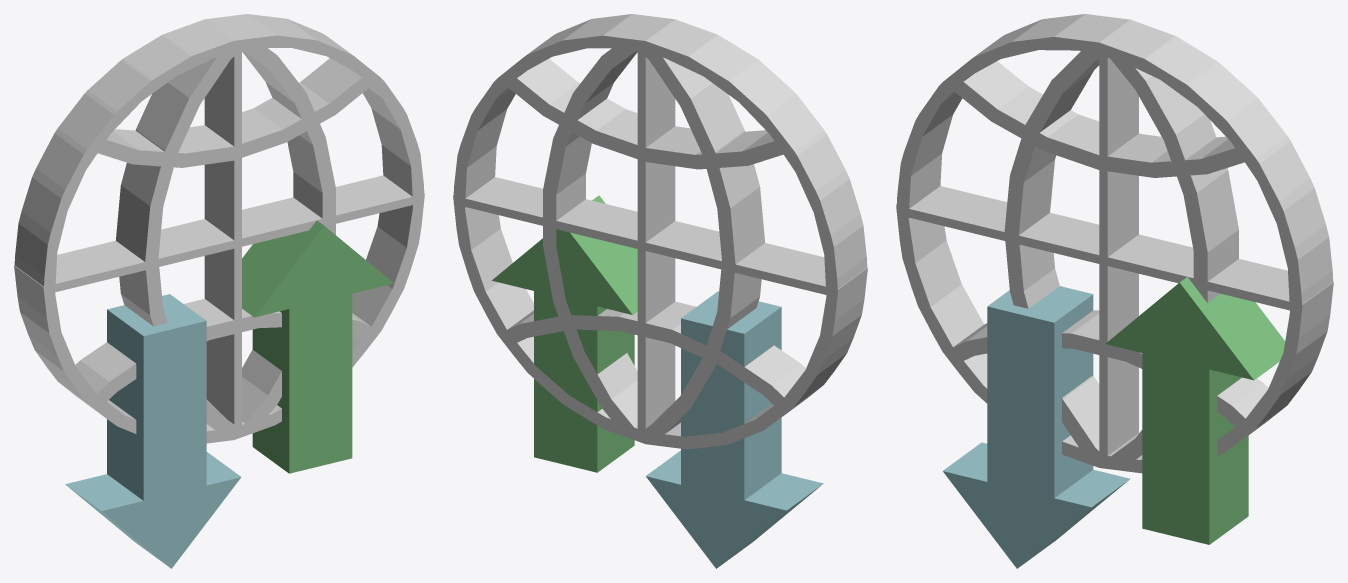
The model's file is accessInternet-both.glb.
3 renders of one model, left to right at view 1: azimuth 30°, elevation 25°; view 2: azimuth 150°, elevation 25°; view 3: azimuth 330°, elevation 25°, orthographic. The views are drawn at different scales.
Visible parts, largest first — view 1: Mesh_Mesh_head_geo.001_lambert2SG.001; view 2: Mesh_Mesh_head_geo.001_lambert2SG.001; view 3: Mesh_Mesh_head_geo.001_lambert2SG.001.
Part boxes in pixels (x1,y1,x2,y2): Mesh_Mesh_head_geo.001_lambert2SG.001: [14, 14, 424, 568]; Mesh_Mesh_head_geo.001_lambert2SG.001: [453, 14, 867, 568]; Mesh_Mesh_head_geo.001_lambert2SG.001: [896, 14, 1333, 568].
Bounding box in the file's own units: 30 × 38 × 5.
